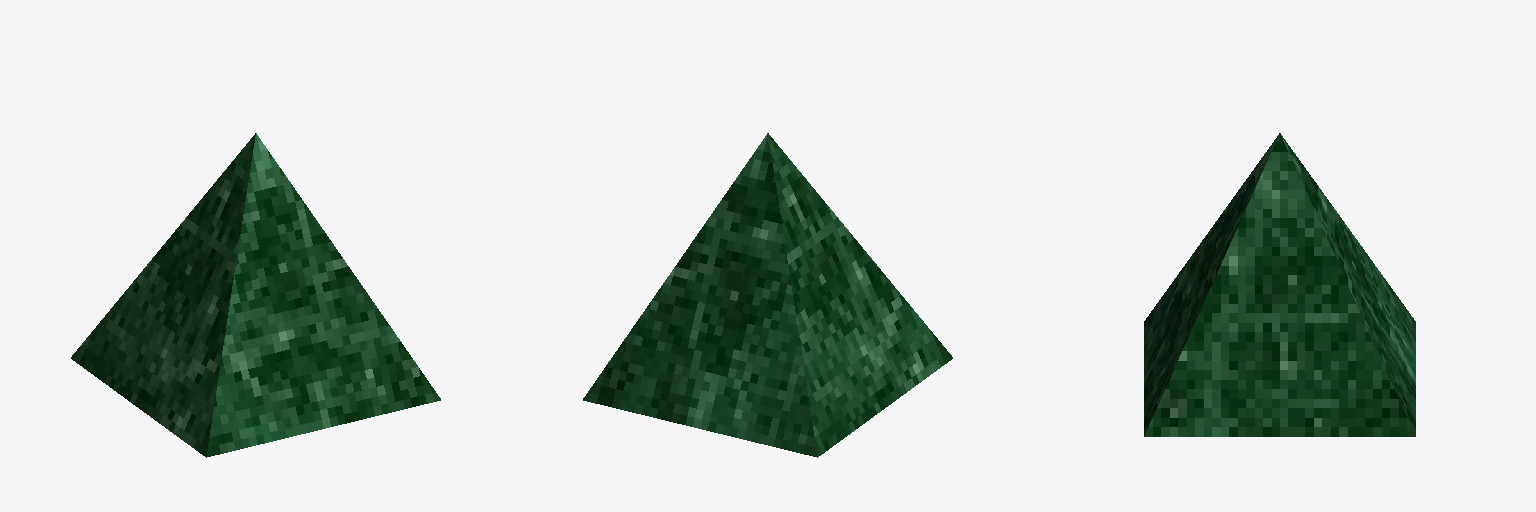
3 views of the same model, side by side, from view 1: azimuth 30°, elevation 25°; view 2: azimuth 150°, elevation 25°; view 3: azimuth 270°, elevation 25° (orthographic).
Parts seen in each view (by area): view 1: Object.1; view 2: Object.1; view 3: Object.1.
Part boxes in pixels (bbox=[...]): Object.1: bbox=[71, 133, 440, 457]; Object.1: bbox=[583, 133, 952, 457]; Object.1: bbox=[1144, 133, 1415, 436].
Bounding box in the file's own units: 100 × 100 × 100.
Materials: 1 (1 with a texture image).